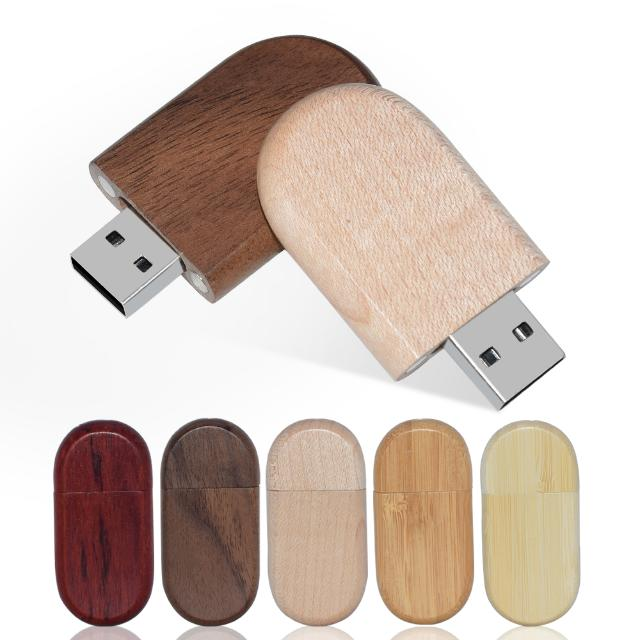USB-Flash-Drive: (257, 84, 566, 412), (69, 35, 382, 319)
